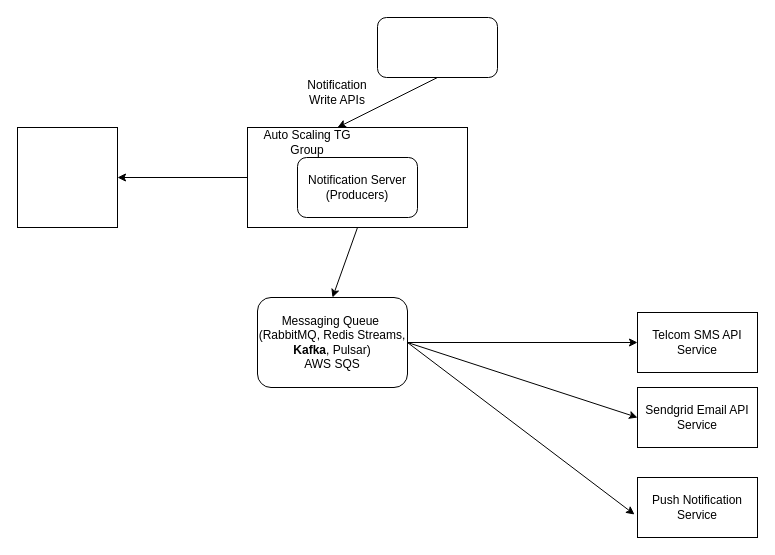
Some shapes in this 775 by 555 pixel diagram are drawn without their labels. The shapes that lost their labels are listed below. From the top down, each one's centre as x and y in pixels, then its label:
(x=437, y=47): Load Balancer
(x=67, y=177): User Identity Service (PII)
